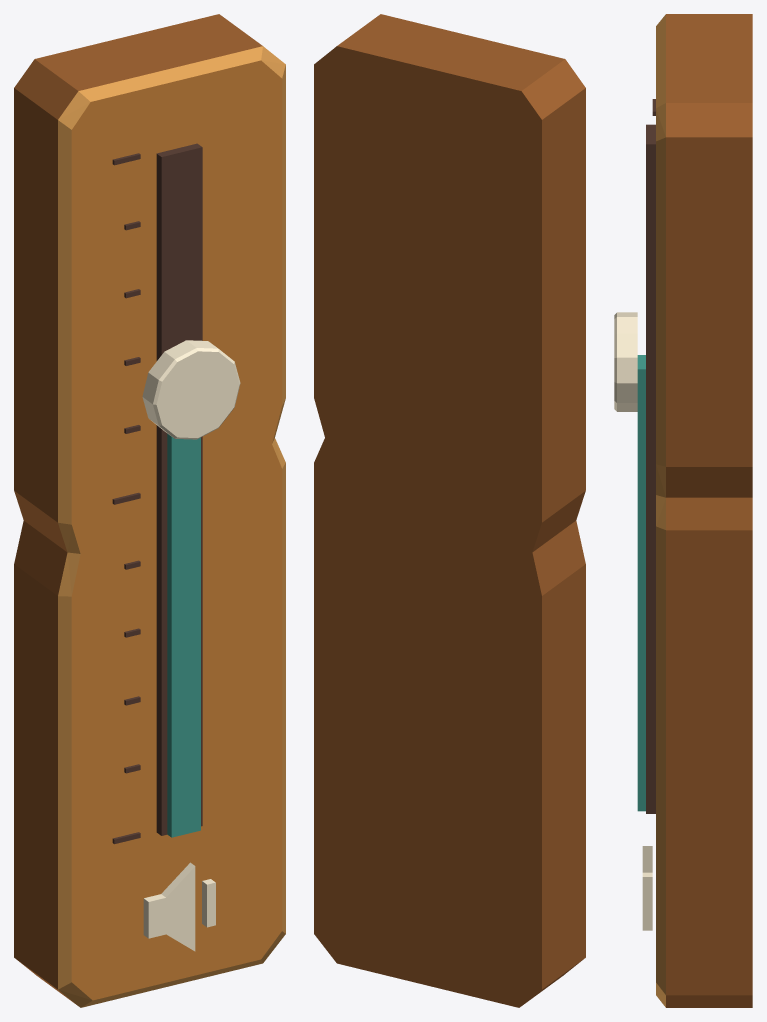
Rendered from Volume_V.fbx.
The picture shows the model from 3 angles, left to right: view 1: azimuth 30°, elevation 25°; view 2: azimuth 150°, elevation 25°; view 3: azimuth 270°, elevation 25°; orthographic projection.
Parts seen in each view (by area): view 1: Stone, Rail, Fill, Handle, Speaker, SpeakerWave; view 2: Stone; view 3: Stone, Rail, Fill, Handle, SpeakerWave, Speaker.
Boxes of the visible parts, left/top/right/bottom form: Stone: left=14, top=14, right=285, bottom=1007; Rail: left=156, top=143, right=202, bottom=835; Fill: left=167, top=433, right=200, bottom=837; Handle: left=142, top=340, right=240, bottom=439; Speaker: left=143, top=862, right=195, bottom=951; SpeakerWave: left=202, top=879, right=215, bottom=927; Stone: left=314, top=14, right=585, bottom=1007; Stone: left=656, top=14, right=752, bottom=1007; Rail: left=646, top=124, right=655, bottom=813; Fill: left=637, top=355, right=645, bottom=811; Handle: left=614, top=312, right=637, bottom=411; SpeakerWave: left=642, top=872, right=652, bottom=919; Speaker: left=642, top=846, right=652, bottom=930.
Size of the model in its own units: 0.078 by 0.3 by 0.0415.
